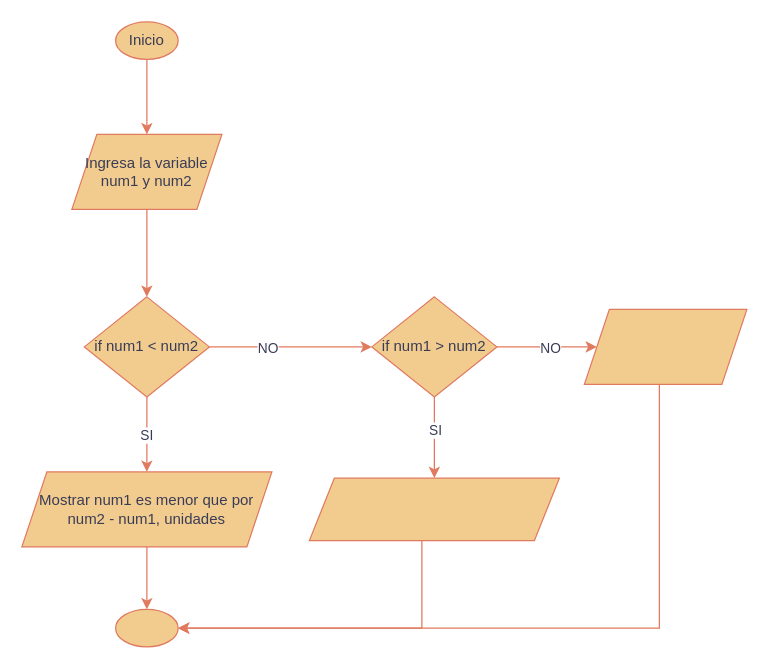
The diagram is 769 pixels wide and 669 high, and some of its shapes have lost their labels. Each missing label, with the box of its shape:
Fin: (114, 608, 178, 647)
Mostrar num2 es menor que por num1 - num2, unidades: (308, 477, 559, 541)
Mostrar que los numeros son iguales: (583, 308, 747, 384)
